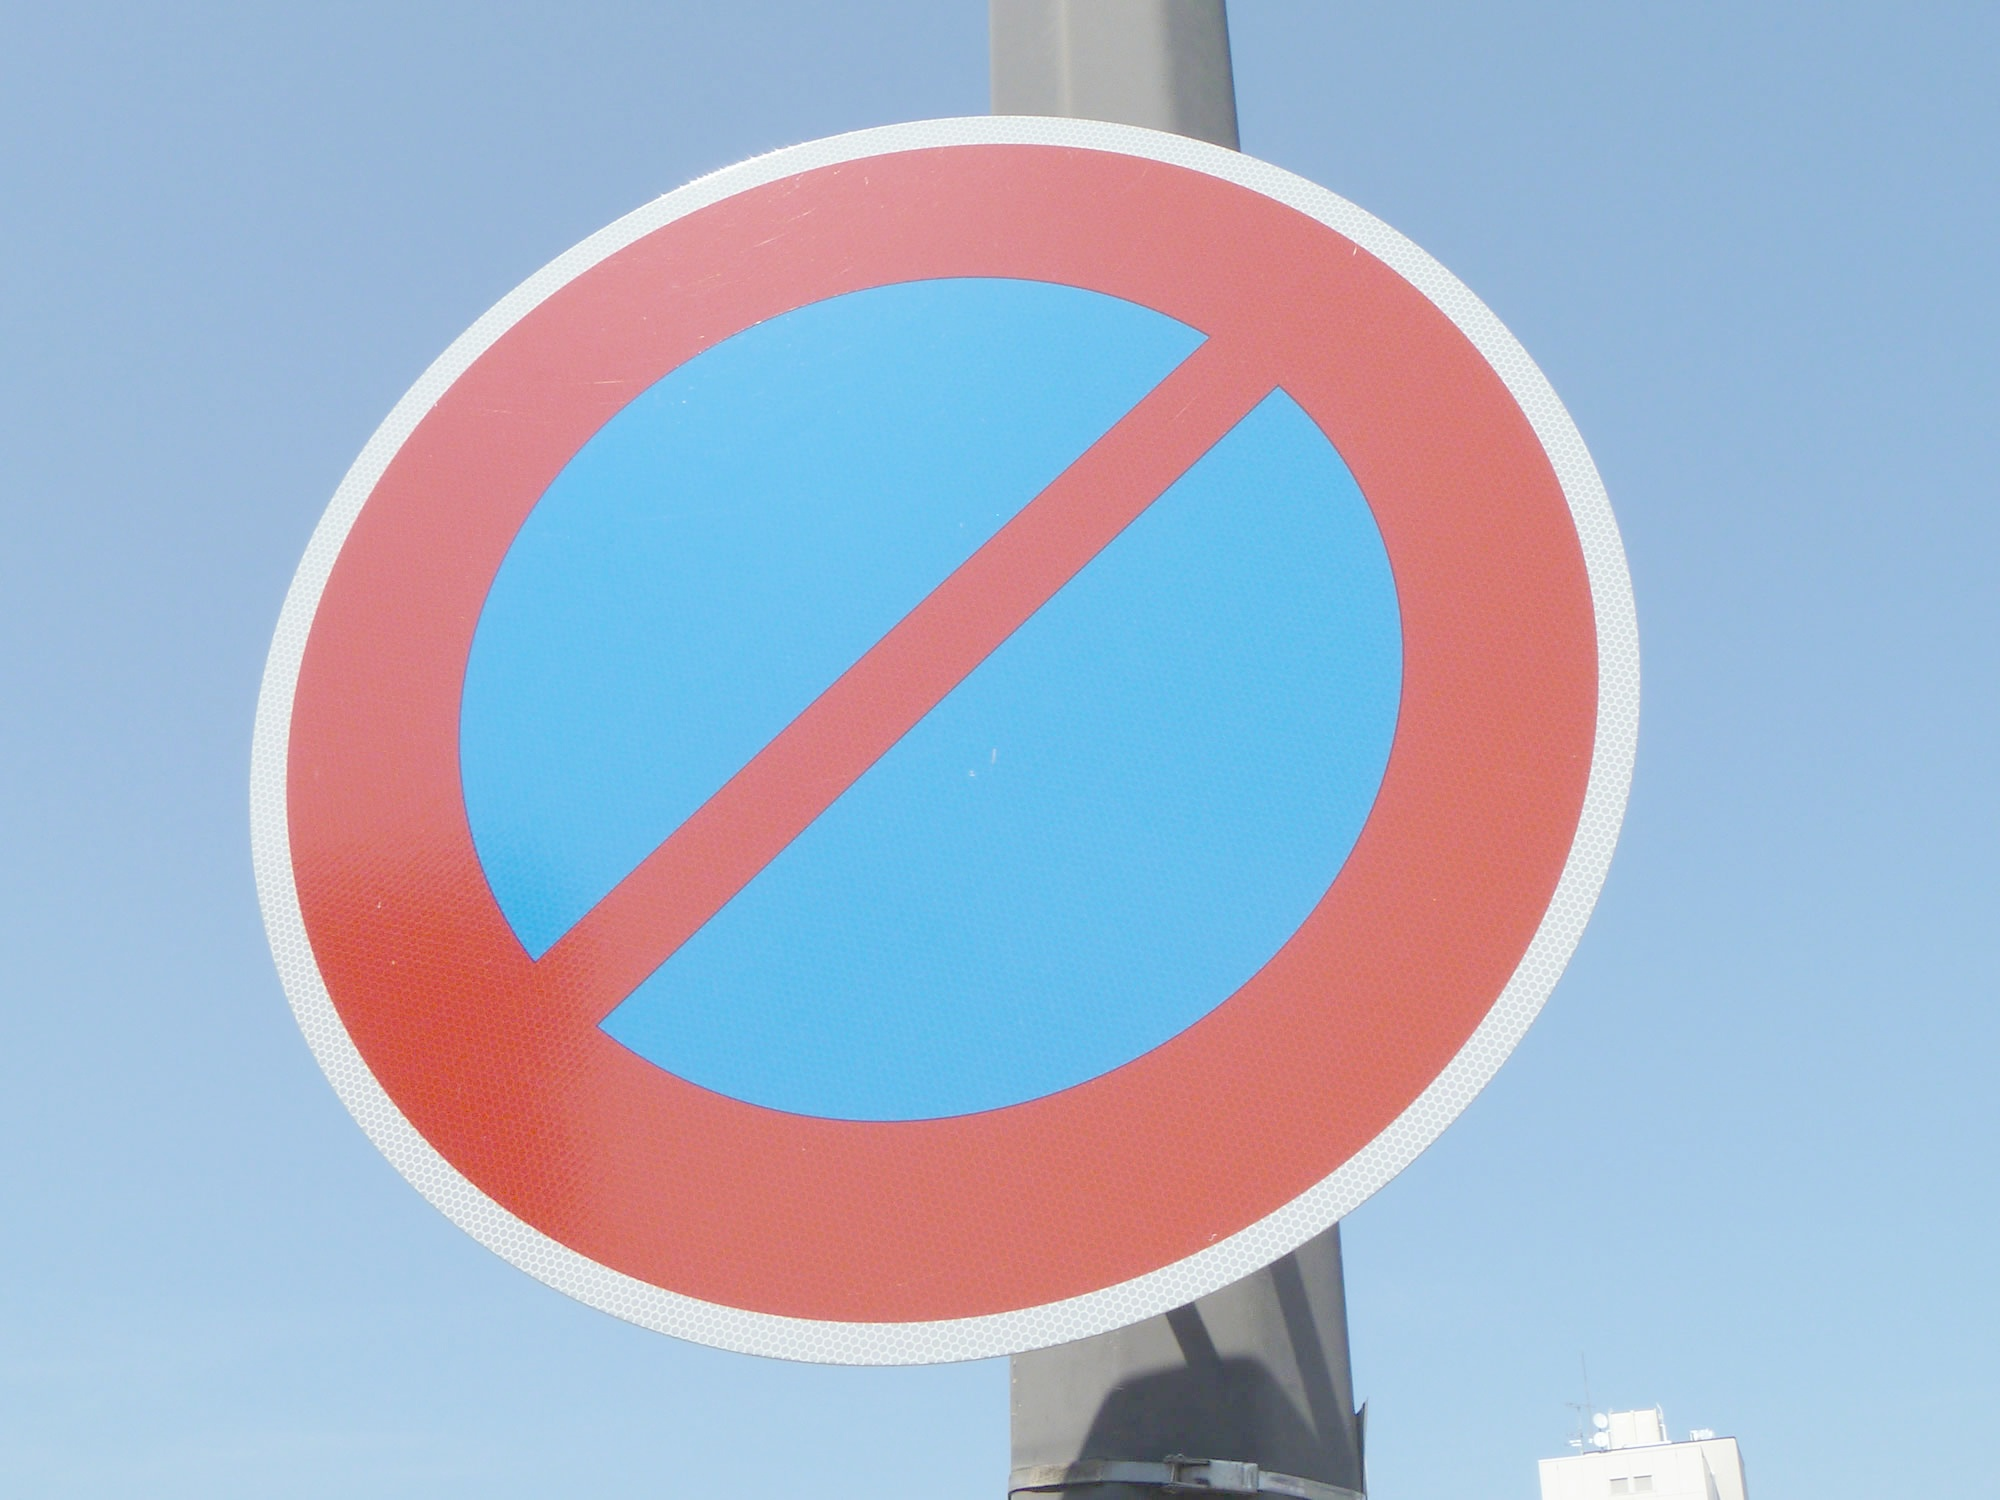Prohibition_sign: (198, 76, 1698, 1372)
